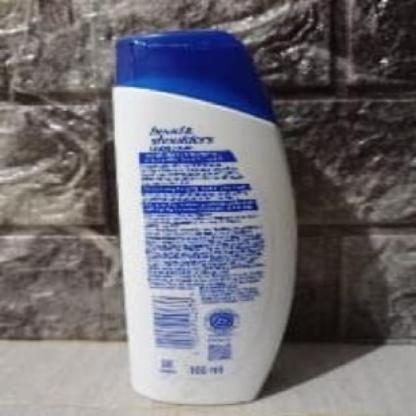objects: (111, 35, 302, 404)
